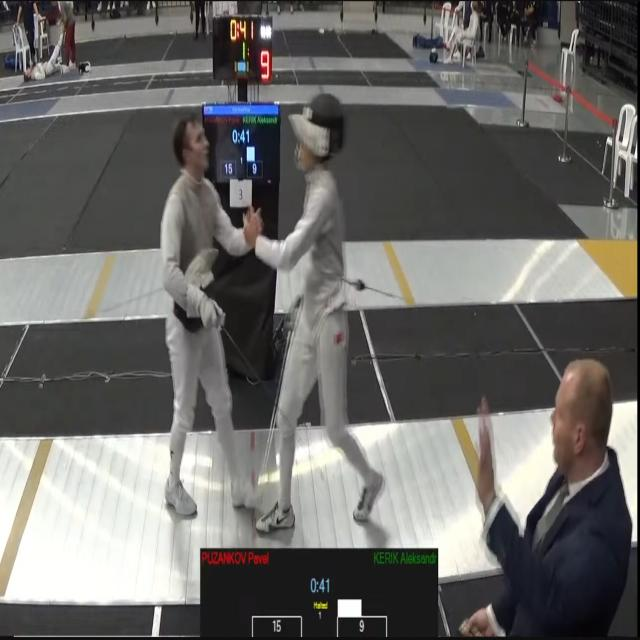fencer: (264, 102, 391, 535), (137, 119, 251, 527)
overlayLeft: (201, 549, 309, 592)
overlayRight: (330, 549, 437, 596)
scoreLeft: (266, 619, 299, 640)
scoreRight: (342, 618, 371, 640)
